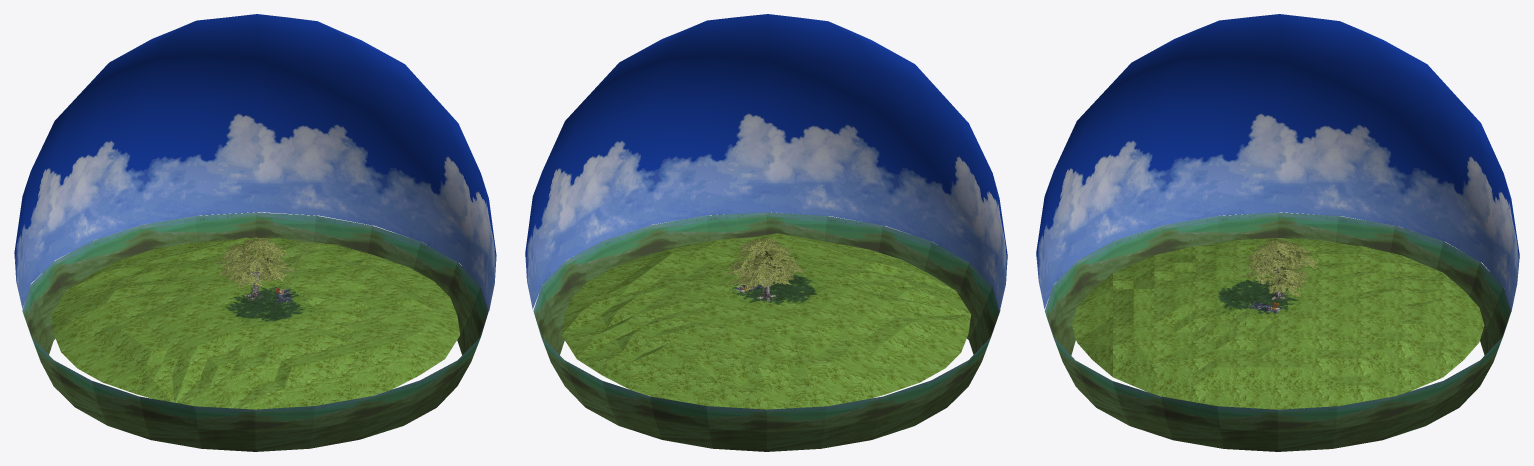
The model's file is Dream.glb.
The picture shows the model from 3 angles, left to right: view 1: azimuth 30°, elevation 25°; view 2: azimuth 150°, elevation 25°; view 3: azimuth 270°, elevation 25°; orthographic projection.
Parts seen in each view (by area): view 1: Ground, Sky, TreeLeafs; view 2: Ground, Sky, TreeLeafs; view 3: Ground, Sky, TreeLeafs.
Part boxes in pixels (x1,y1,x2,y2): Ground: (22, 212, 488, 451); Sky: (14, 14, 496, 310); TreeLeafs: (215, 236, 294, 287); Ground: (533, 212, 1000, 451); Sky: (525, 14, 1007, 311); TreeLeafs: (723, 237, 804, 292); Ground: (1045, 212, 1511, 451); Sky: (1036, 14, 1519, 311); TreeLeafs: (1243, 238, 1317, 296).
Bounding box in the file's own units: 54.72 × 41 × 54.72.
Materials: 12 (12 with a texture image).
